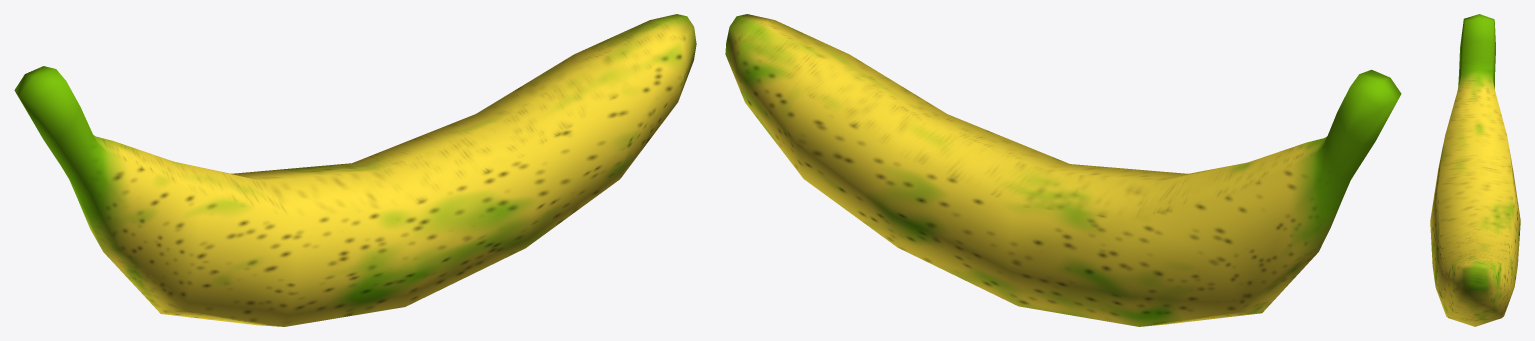
The model's file is banana-new.glb.
3 renders of one model, left to right at view 1: azimuth 30°, elevation 25°; view 2: azimuth 150°, elevation 25°; view 3: azimuth 270°, elevation 25°, orthographic. The views are drawn at different scales.
Parts seen in each view (by area): view 1: banana; view 2: banana; view 3: banana.
Boxes of the visible parts, x1=… form: banana: x1=14, y1=14, x2=696, y2=326; banana: x1=725, y1=14, x2=1401, y2=326; banana: x1=1430, y1=14, x2=1520, y2=326.
Bounding box in the file's own units: 0.7658 × 0.3405 × 0.146.
Materials: 1 (1 with a texture image).
